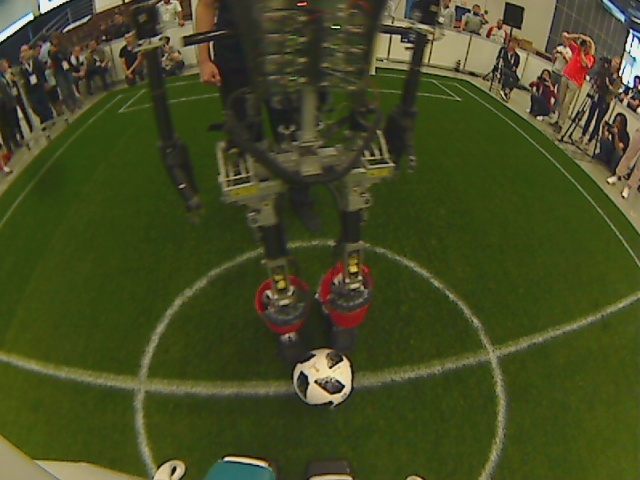ball: (291, 347, 356, 407)
